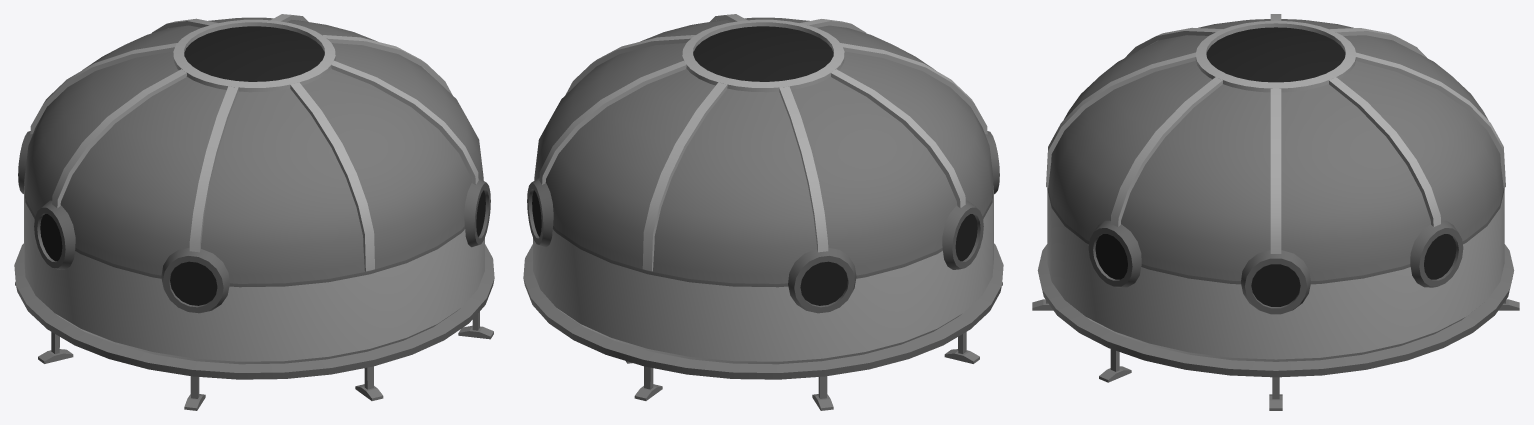
The picture shows the model from 3 angles, left to right: view 1: azimuth 30°, elevation 25°; view 2: azimuth 150°, elevation 25°; view 3: azimuth 270°, elevation 25°; orthographic projection.
Parts seen in each view (by area): view 1: Base_Large; view 2: Base_Large; view 3: Base_Large.
Boxes of the visible parts, left/top/right/bottom form: Base_Large: left=14, top=14, right=494, bottom=410; Base_Large: left=523, top=14, right=1003, bottom=410; Base_Large: left=1032, top=14, right=1519, bottom=410.
Bounding box in the file's own units: 8.53 × 4.97 × 8.53.
1 material, 1 textured.
